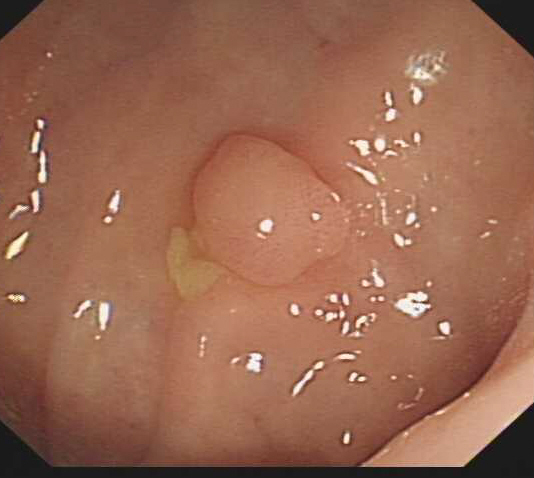adenoma: (186, 130, 354, 291)
